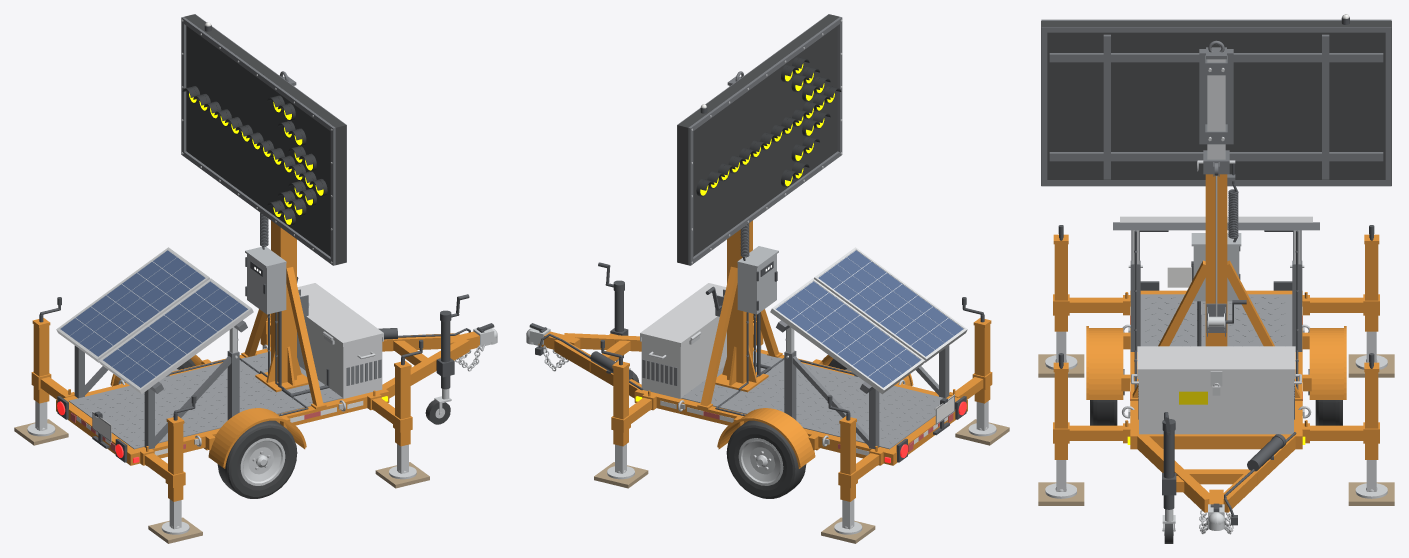
The model's file is arrow-board-trailer.glb.
3 views of the same model, side by side, from view 1: azimuth 30°, elevation 25°; view 2: azimuth 150°, elevation 25°; view 3: azimuth 270°, elevation 25° (orthographic). The views are drawn at different scales.
Visible parts, largest first — view 1: frame, sign_face, solar_cells, deck, solar_frame, leaf_spring, axle, rim_L, lamp_housings, tyre_L, controller, jack_pads (+4 smaller); view 2: frame, sign_face, solar_cells, deck, solar_frame, leaf_spring, axle, lamp_housings, rim_L, tyre_L, controller, jack_pads (+4 smaller); view 3: sign_face, frame, leaf_spring, solar_frame, deck, rim_L, axle, jack_pads, tyre_L, tie_downs, controller, photocell_dome.
Part boxes in pixels (left/top/right/bottom): frame: left=31, top=220, right=479, bottom=501; sign_face: left=184, top=14, right=346, bottom=264; solar_cells: left=60, top=250, right=247, bottom=387; deck: left=69, top=351, right=342, bottom=449; solar_frame: left=56, top=247, right=383, bottom=398; leaf_spring: left=74, top=14, right=381, bottom=449; axle: left=39, top=25, right=494, bottom=462; rim_L: left=27, top=85, right=497, bottom=534; lamp_housings: left=182, top=86, right=327, bottom=225; tyre_L: left=177, top=358, right=450, bottom=498; controller: left=245, top=246, right=286, bottom=314; jack_pads: left=14, top=419, right=429, bottom=543; frame: left=538, top=220, right=992, bottom=501; sign_face: left=677, top=14, right=839, bottom=264; solar_cells: left=776, top=250, right=963, bottom=387; deck: left=681, top=351, right=942, bottom=449; solar_frame: left=640, top=247, right=967, bottom=398; leaf_spring: left=642, top=14, right=954, bottom=449; axle: left=529, top=106, right=984, bottom=462; lamp_housings: left=696, top=56, right=841, bottom=196; rim_L: left=526, top=85, right=996, bottom=534; tyre_L: left=631, top=359, right=846, bottom=498; controller: left=737, top=246, right=778, bottom=314; jack_pads: left=594, top=419, right=1009, bottom=543; sign_face: left=1041, top=21, right=1391, bottom=185; frame: left=1053, top=174, right=1379, bottom=512; leaf_spring: left=1041, top=19, right=1391, bottom=419; solar_frame: left=1120, top=216, right=1312, bottom=434; deck: left=1140, top=294, right=1292, bottom=346; rim_L: left=1045, top=59, right=1387, bottom=535; axle: left=1058, top=17, right=1374, bottom=525; jack_pads: left=1038, top=354, right=1394, bottom=505; tyre_L: left=1090, top=400, right=1342, bottom=543; tie_downs: left=1122, top=68, right=1311, bottom=534; controller: left=1191, top=233, right=1241, bottom=301; photocell_dome: left=1130, top=14, right=1349, bottom=422.
Bounding box in the file's own units: 3.81 × 3.39 × 2.48.
